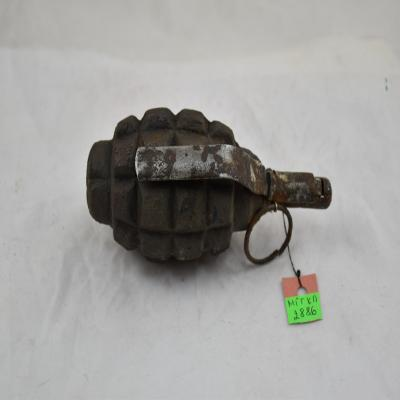other: (85, 108, 333, 266)
